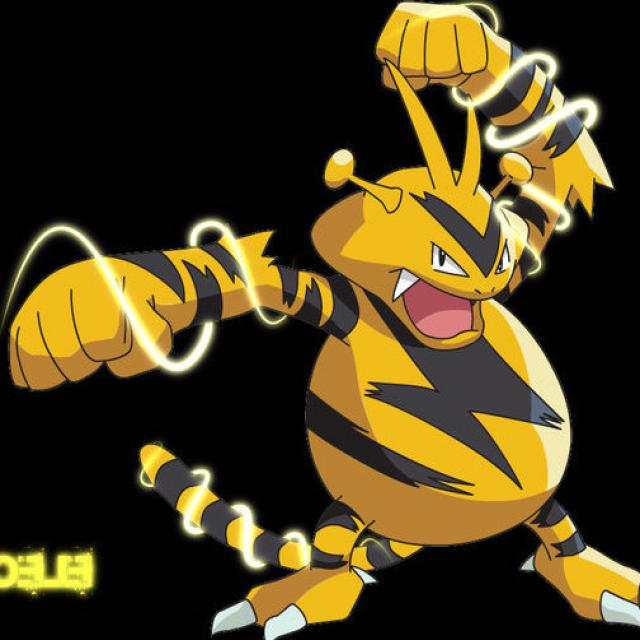Electabuzz: (111, 6, 616, 633)
